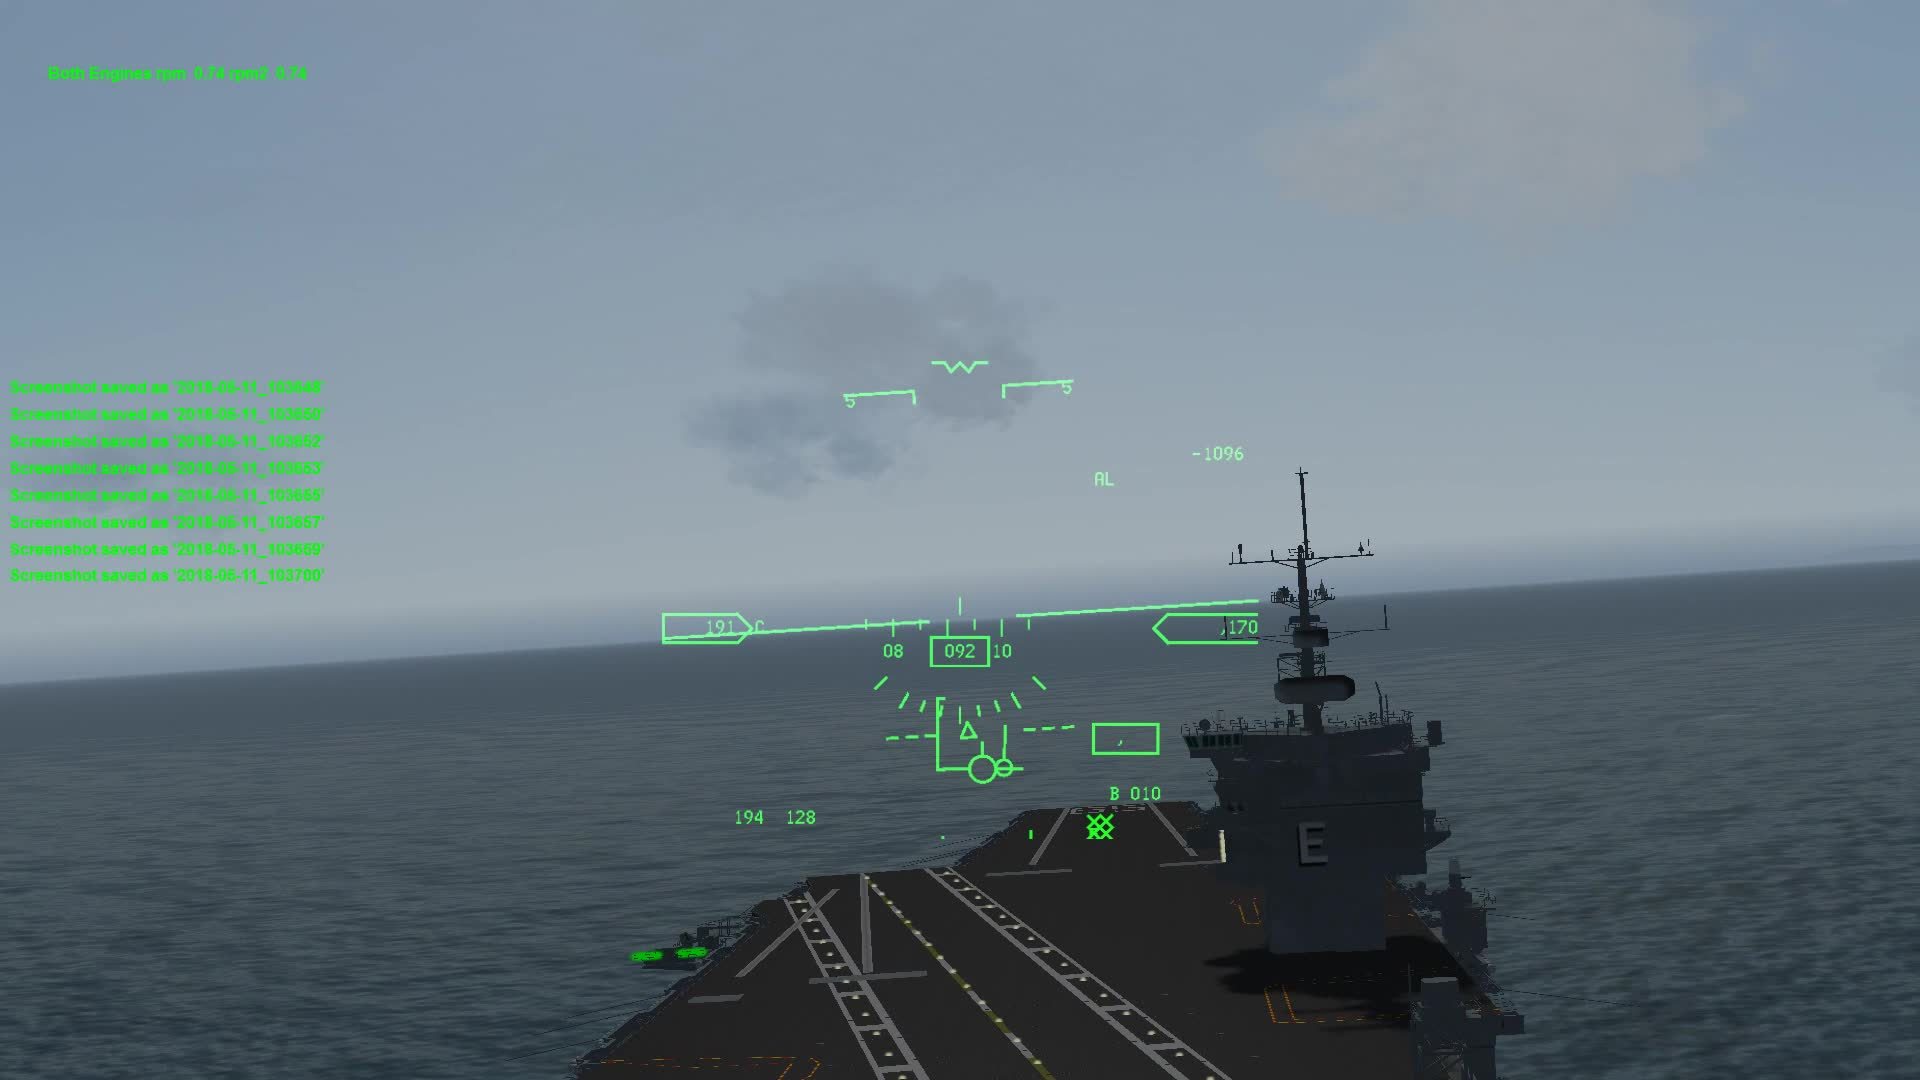speed_vector: (945, 742, 1027, 789)
